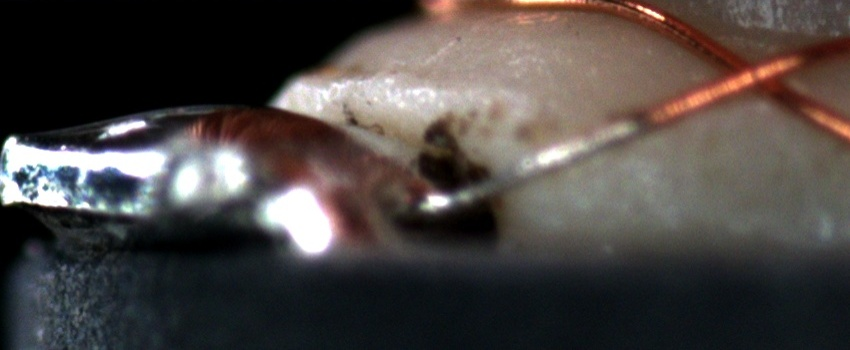CL: (709, 42, 806, 107)
TS: (425, 114, 643, 216)
